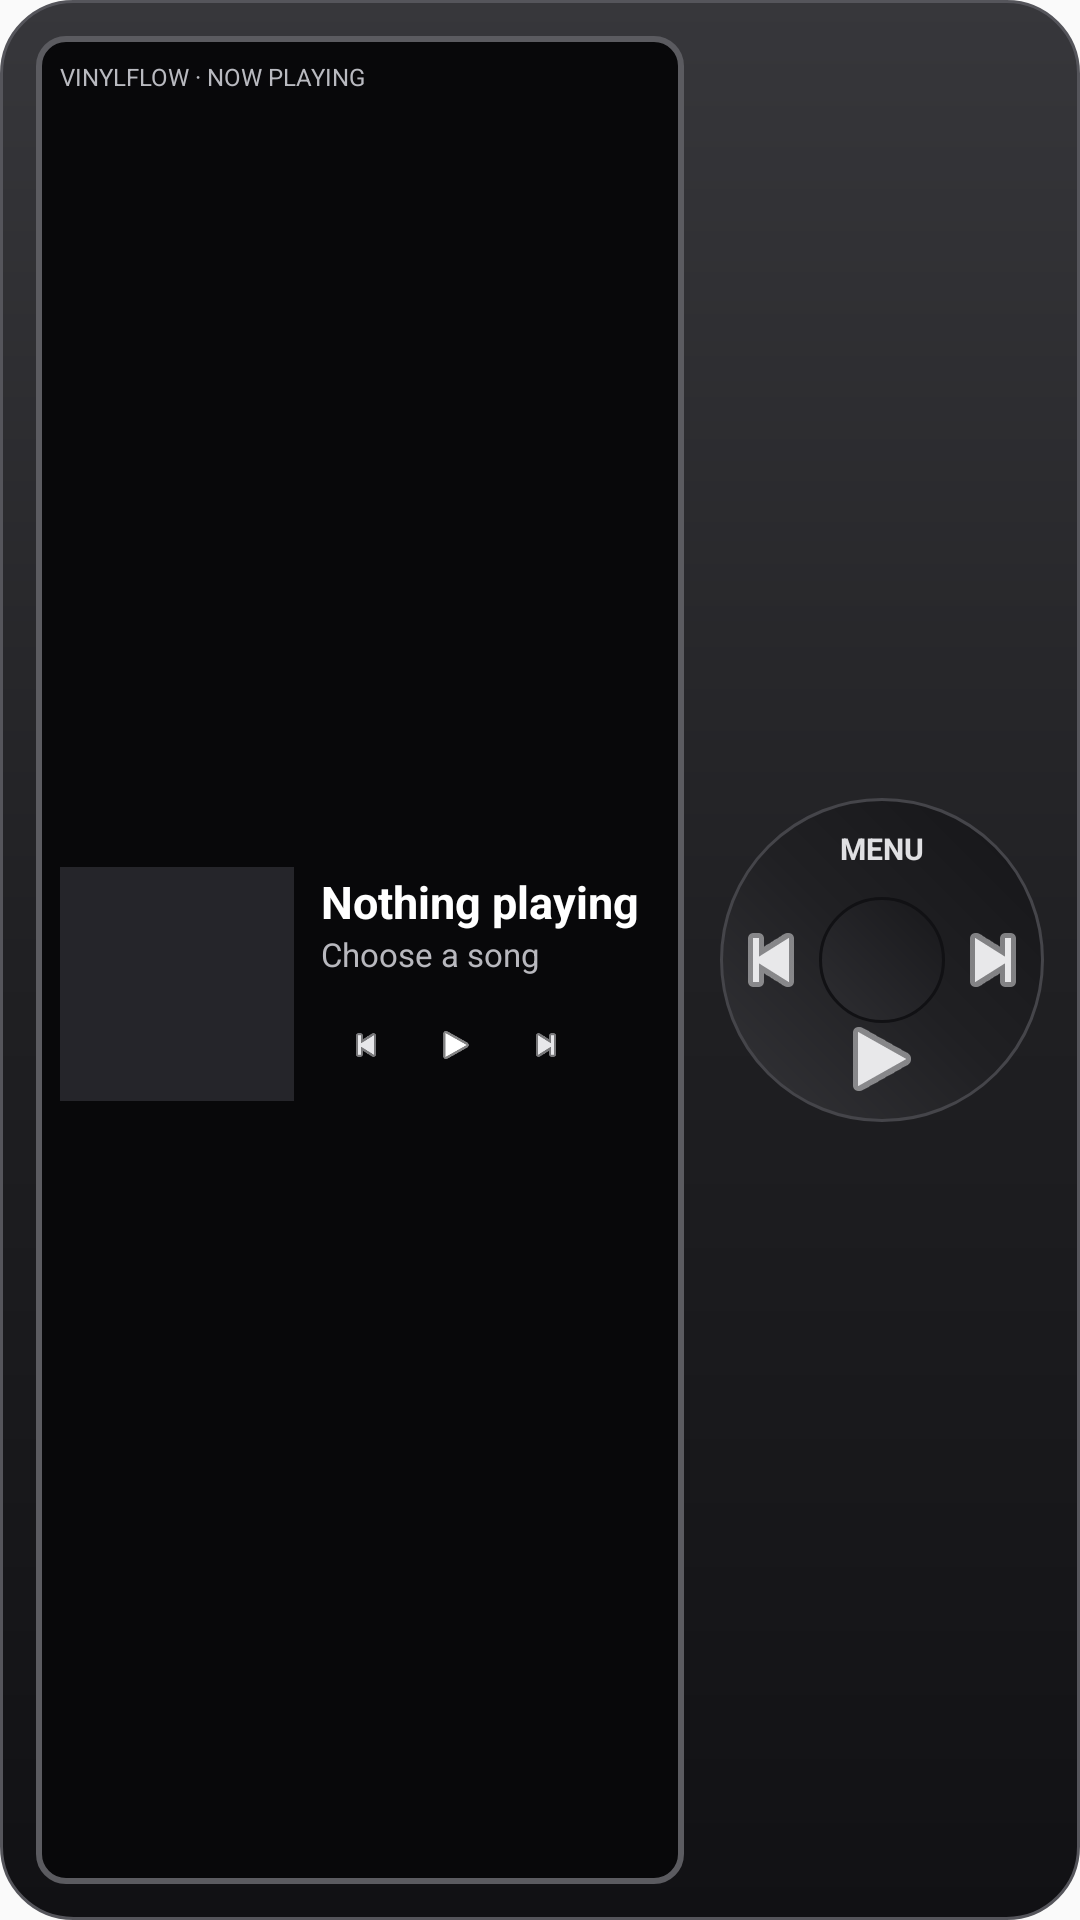

Screen size 1080*1920. Icon name, then its center in pixels as (x=x, y=y):
Next: (x=993, y=960), (x=546, y=1045)
Play or pause: (x=882, y=1059), (x=456, y=1045)
Previous: (x=771, y=960), (x=366, y=1045)
